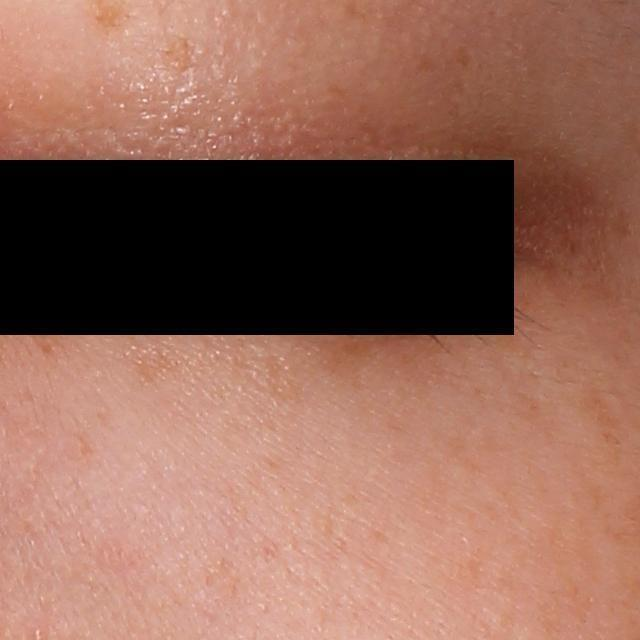melasma: (573, 384, 637, 470), (121, 340, 194, 395), (159, 29, 198, 76), (412, 52, 442, 76), (451, 40, 470, 67)
